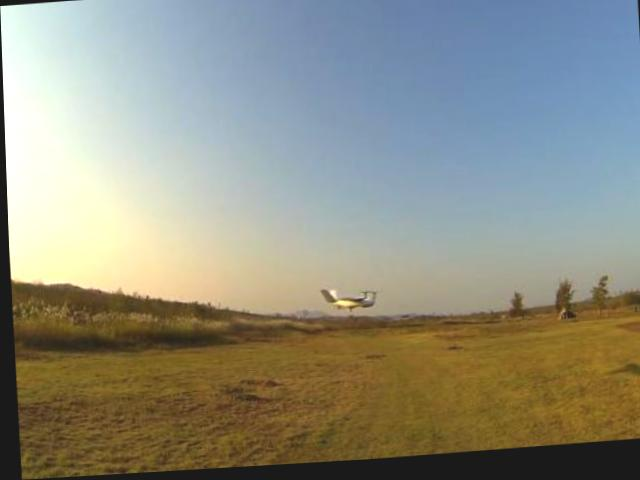uav: (306, 269, 391, 330)
